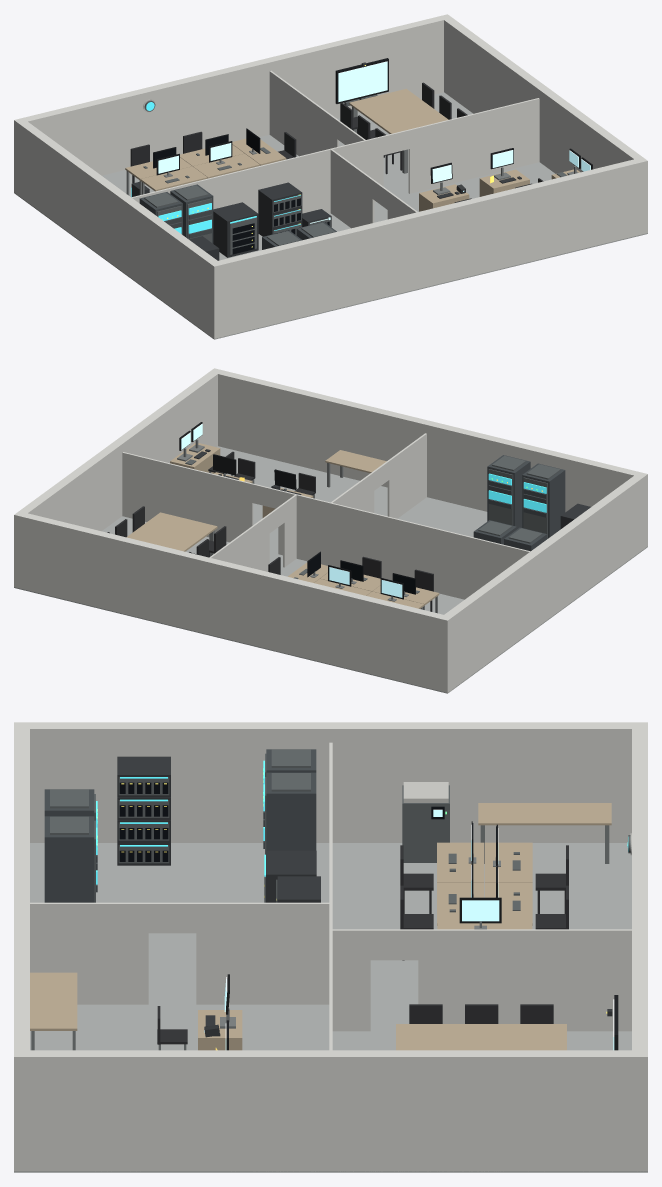
Rendered from GeneralCompany.glb.
3 views of the same model, one above another, from view 1: azimuth 30°, elevation 25°; view 2: azimuth 150°, elevation 25°; view 3: azimuth 270°, elevation 25° (orthographic). The views are drawn at different scales.
Visible parts, largest first — view 1: Wall_Outer_South, Wall_Outer_North, Wall_Outer_West, Wall_Divider_TopBottom, Wall_Outer_East, Room_Floor, Wall_Divider_Workspace_Meeting, Wall_Divider_Admin_Server, Desk_Top.006, Conf_ScreenGlow.001, BkDev_Body.001, Desk_Top.007 (+7 smaller); view 2: Wall_Outer_North, Wall_Outer_South, Wall_Divider_TopBottom, Wall_Outer_West, Wall_Outer_East, Room_Floor, Wall_Divider_Admin_Server, Wall_Divider_Workspace_Meeting, Desk_Top.006, Rack_Body.002, Rack_Body.004, Desk_Top.008 (+3 smaller); view 3: Wall_Outer_East, Wall_Outer_West, Room_Floor, Wall_Divider_Admin_Server, Wall_Divider_Workspace_Meeting, Wall_Outer_North, Wall_Outer_South, Desk_Top.006, Rack_Body.004, Rack_Body.001, Desk_Top.005, Desk_Top.008 (+20 smaller).
Boxes of the visible parts, <box> form: Wall_Outer_South: <box>209,159,647,339</box>; Wall_Outer_North: <box>14,14,447,195</box>; Wall_Outer_West: <box>14,119,222,338</box>; Wall_Divider_TopBottom: <box>113,98,539,264</box>; Wall_Outer_East: <box>439,14,647,234</box>; Room_Floor: <box>14,92,647,339</box>; Wall_Divider_Workspace_Meeting: <box>269,70,365,156</box>; Wall_Divider_Admin_Server: <box>330,148,417,228</box>; Desk_Top.006: <box>349,88,448,133</box>; Conf_ScreenGlow.001: <box>338,61,387,101</box>; BkDev_Body.001: <box>213,202,258,257</box>; Desk_Top.007: <box>140,166,207,191</box>; Wall_Outer_North: <box>14,513,452,692</box>; Wall_Outer_South: <box>215,368,647,546</box>; Wall_Divider_TopBottom: <box>122,452,547,619</box>; Wall_Outer_West: <box>439,473,647,692</box>; Wall_Outer_East: <box>14,368,222,588</box>; Room_Floor: <box>14,446,647,693</box>; Wall_Divider_Admin_Server: <box>331,433,426,518</box>; Wall_Divider_Workspace_Meeting: <box>195,495,296,631</box>; Desk_Top.006: <box>126,512,217,551</box>; Rack_Body.002: <box>522,463,565,538</box>; Rack_Body.004: <box>487,455,530,529</box>; Desk_Top.008: <box>325,450,386,473</box>; Wall_Outer_East: <box>14,1050,647,1171</box>; Wall_Outer_West: <box>15,722,647,842</box>; Room_Floor: <box>14,843,647,1172</box>; Wall_Divider_Admin_Server: <box>30,902,331,1004</box>; Wall_Divider_Workspace_Meeting: <box>331,929,631,1031</box>; Wall_Outer_North: <box>632,722,647,1171</box>; Wall_Outer_South: <box>14,722,29,1170</box>; Desk_Top.006: <box>396,1024,566,1050</box>; Rack_Body.004: <box>44,816,94,902</box>; Rack_Body.001: <box>266,772,316,850</box>; Desk_Top.005: <box>478,803,611,825</box>; Desk_Top.008: <box>30,972,77,1030</box>.
Size of the model in its own units: 50 by 8.05 by 40.
